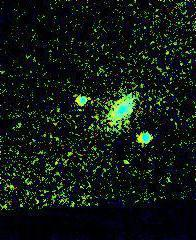star: (114, 146, 144, 176)
